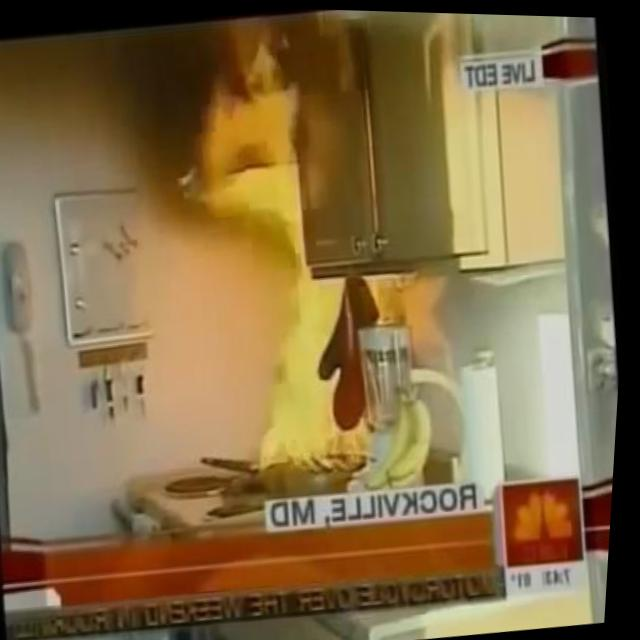fire: (155, 28, 410, 493)
